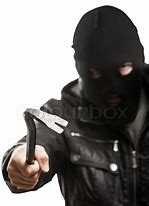crowbar: (5, 106, 70, 191)
